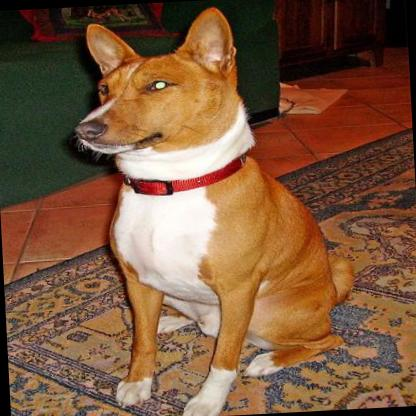basenji: (64, 1, 361, 416)
